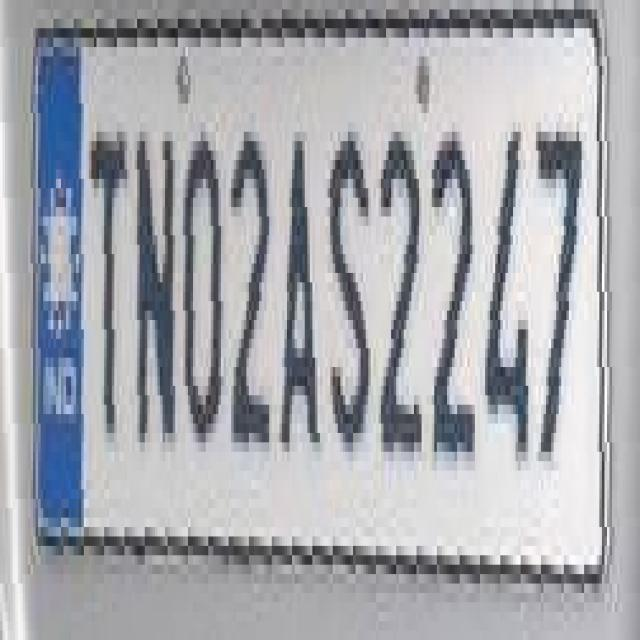license_plate: (2, 0, 610, 593)
